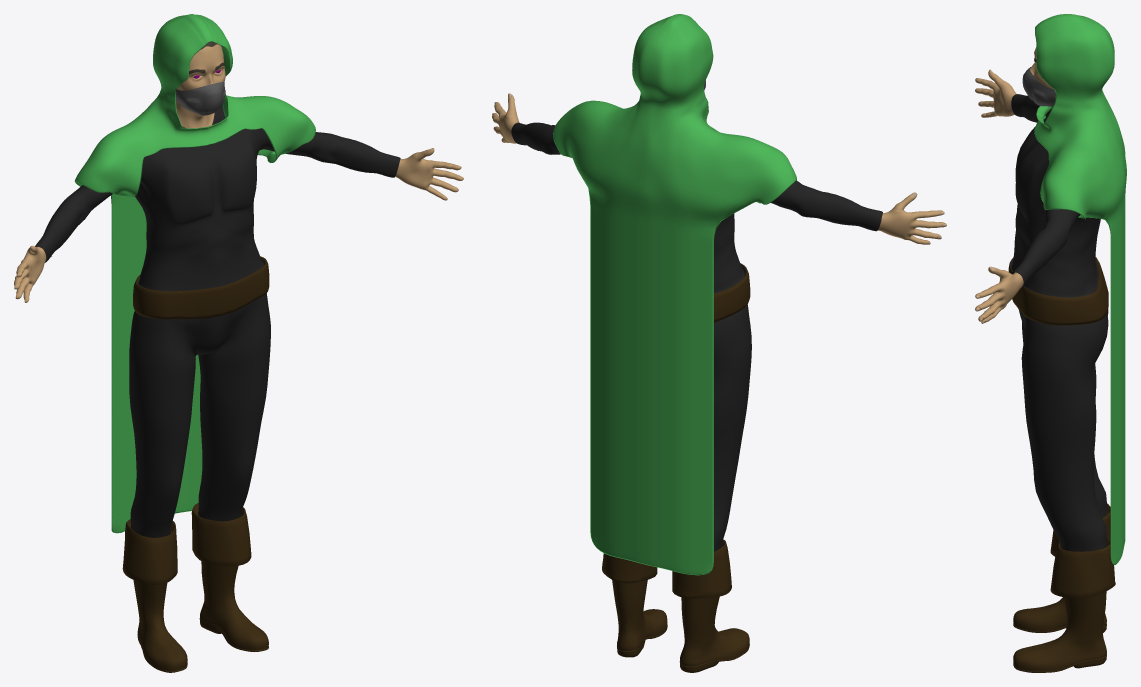
Rendered from rogue_green.fbx.
The picture shows the model from 3 angles, left to right: view 1: azimuth 30°, elevation 25°; view 2: azimuth 150°, elevation 25°; view 3: azimuth 270°, elevation 25°; orthographic projection.
Visible parts, largest first — view 1: rogue:Rogue_Mesh, rogue:Hood, rogue:Mask; view 2: rogue:Hood, rogue:Rogue_Mesh; view 3: rogue:Rogue_Mesh, rogue:Hood, rogue:Mask.
Boxes of the visible parts, x1,y1,x2,y2 form: rogue:Rogue_Mesh: [14, 42, 463, 672]; rogue:Hood: [74, 14, 315, 533]; rogue:Mask: [175, 81, 225, 115]; rogue:Hood: [553, 14, 796, 575]; rogue:Rogue_Mesh: [492, 93, 946, 672]; rogue:Rogue_Mesh: [975, 47, 1115, 672]; rogue:Hood: [1034, 14, 1126, 565]; rogue:Mask: [1022, 67, 1055, 106].
Size of the model in its own units: 8.9 by 11.85 by 2.59.
